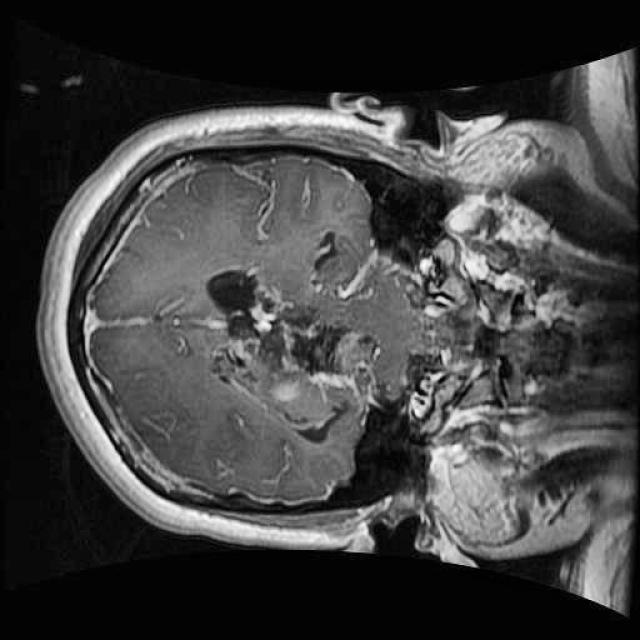Non-Tumor: (186, 252, 402, 454)
